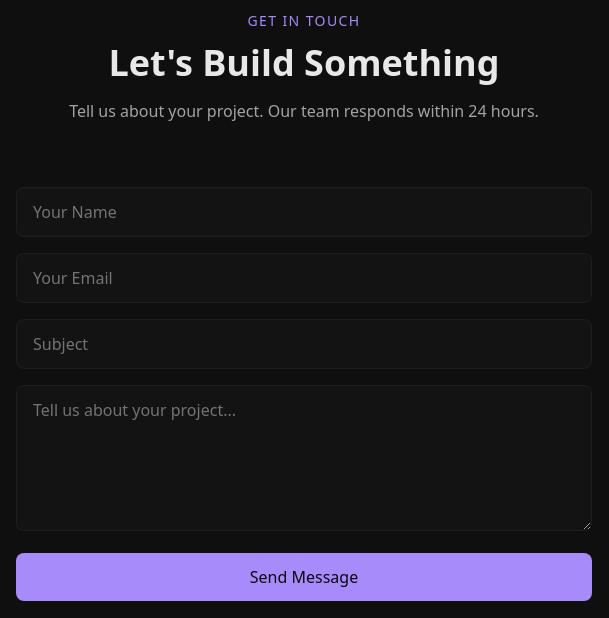
Contact Component › shows success message after successful submit
Type "Test User" into the field with placeholder "Your Name" at (304, 212), box [16,187,592,237]
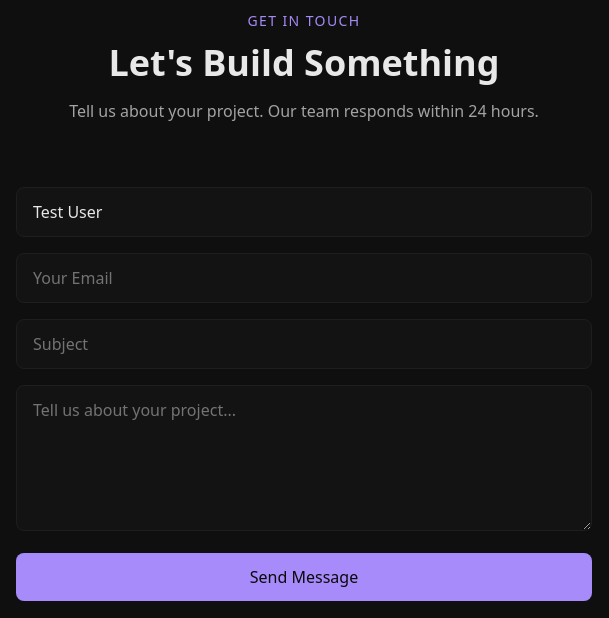
Type "test@example.com" into the field with placeholder "Your Email" at (304, 278), box [16,253,592,303]
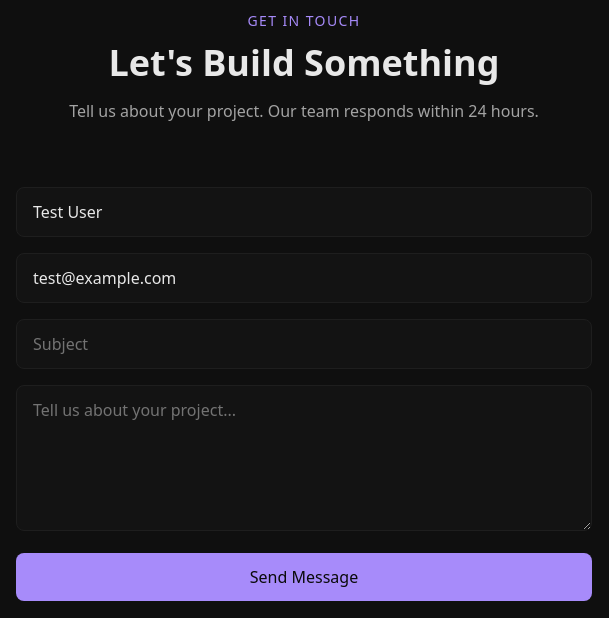
Type "Test Subject" into the field with placeholder "Subject" at (304, 344), box [16,319,592,369]
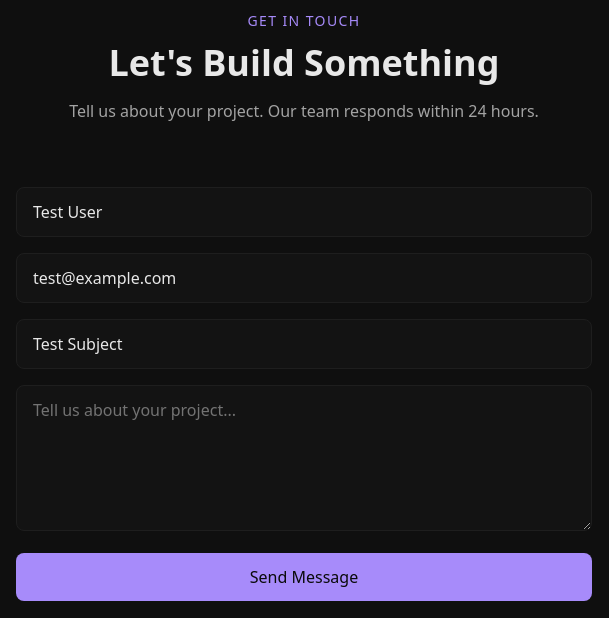
Type "This is a test message" into the text box with placeholder "Tell us about your project..." at (304, 458), box [16,385,592,531]
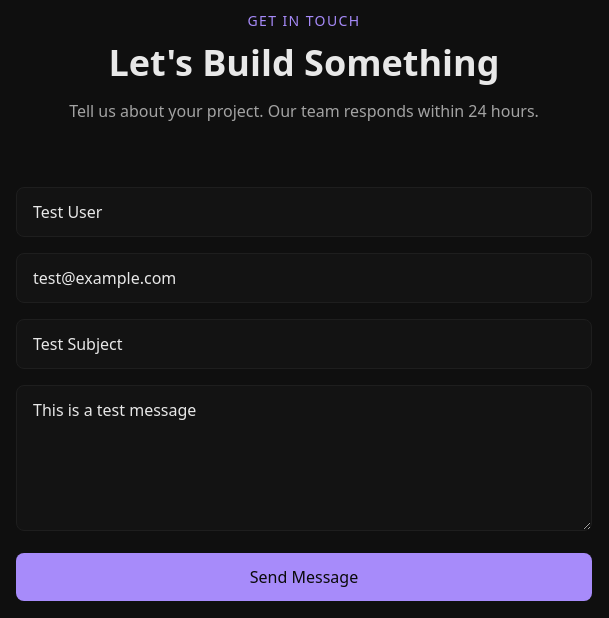
Click the button "Send Message" at (304, 577), box [16,553,592,601]
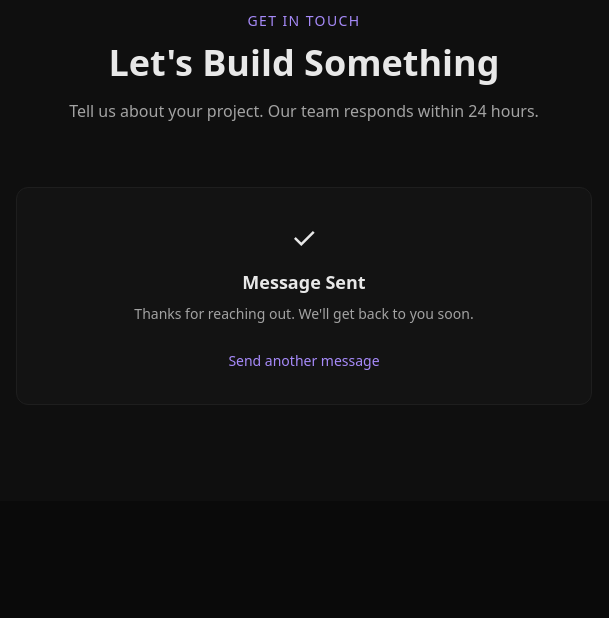
Expected: the heading "Message Sent" is shown, [242,270,366,294]
Expected: the text "Thanks for reaching out. We'll get back to you soon." is shown, [134,304,474,323]
